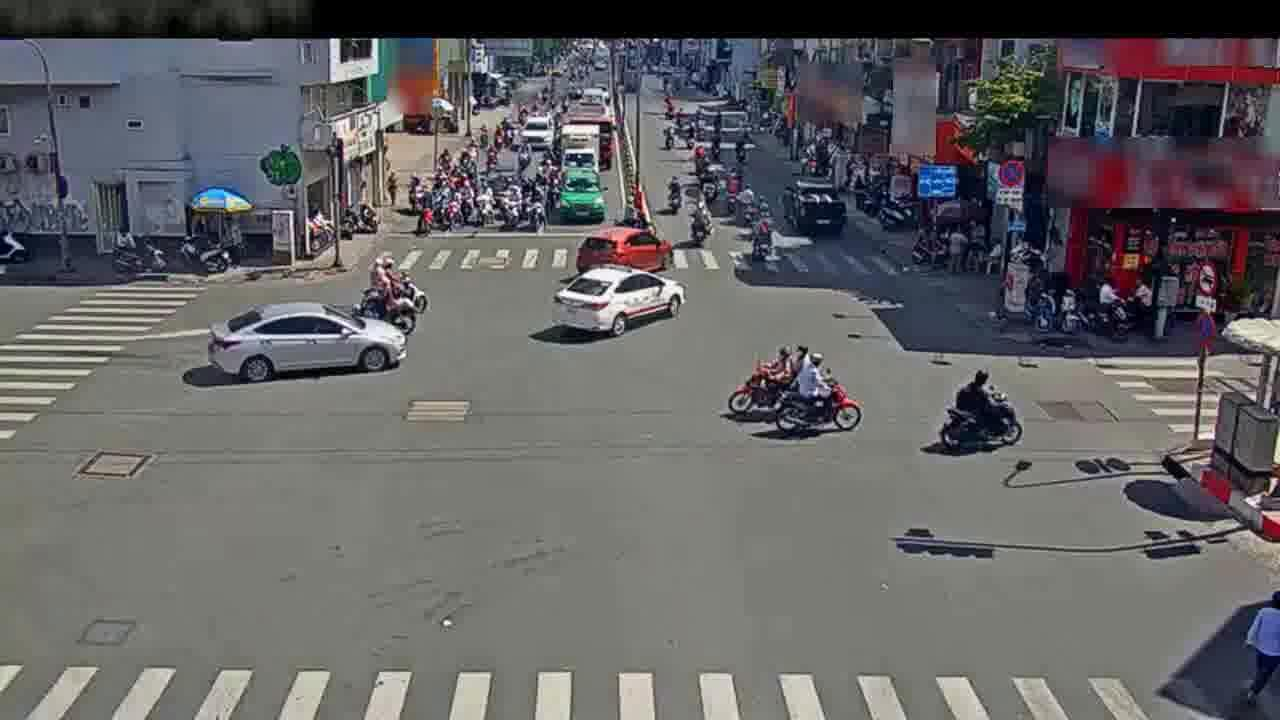container: (218, 302, 388, 383), (557, 260, 673, 335), (575, 226, 673, 266), (782, 182, 847, 234), (556, 170, 606, 222)
motorbike: (764, 352, 864, 437), (724, 343, 824, 424), (939, 372, 1023, 452), (357, 257, 428, 331), (1236, 597, 1271, 709), (744, 212, 779, 277), (685, 195, 711, 256), (661, 172, 684, 222), (415, 195, 440, 239), (475, 181, 496, 227), (732, 186, 757, 221), (502, 184, 521, 227), (443, 190, 463, 230), (527, 187, 543, 233)
